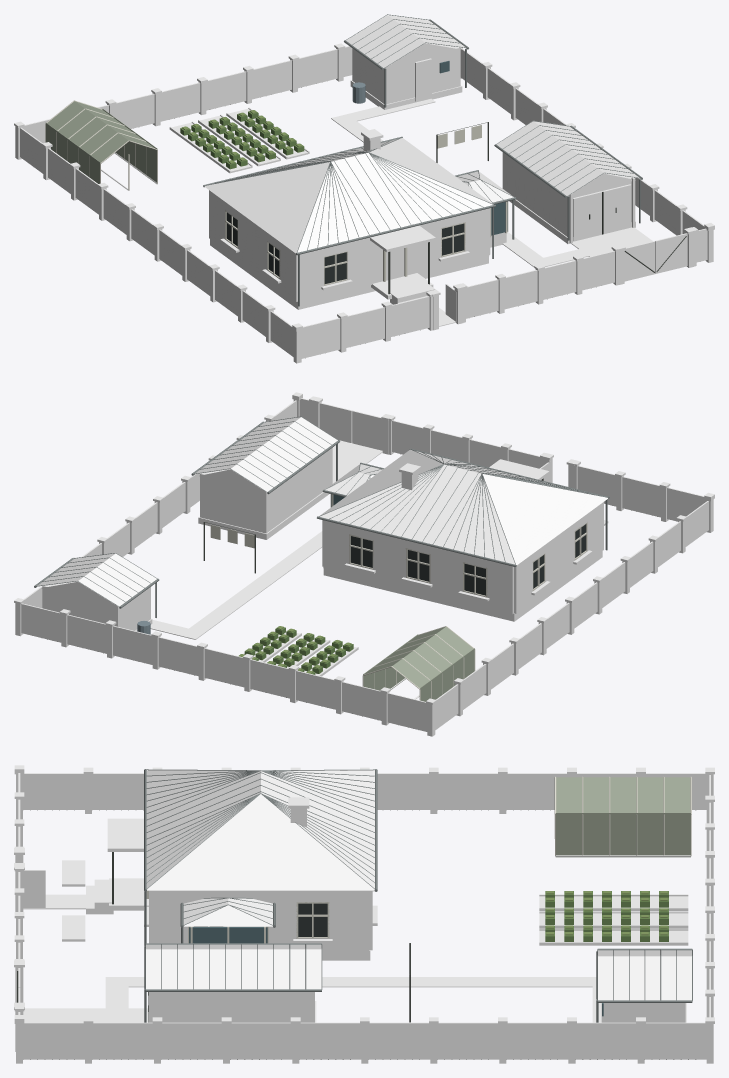
3 renders of one model, top to bottom at view 1: azimuth 30°, elevation 25°; view 2: azimuth 150°, elevation 25°; view 3: azimuth 270°, elevation 25°, orthographic. The views are drawn at different scales.
Visible parts, largest first — view 1: ParcelGeometry.014, SummerPlanting.012; view 2: ParcelGeometry.014, SummerPlanting.012; view 3: ParcelGeometry.014, SummerPlanting.012.
Part boxes in pixels (bbox=[...]): ParcelGeometry.014: bbox=[14, 14, 714, 363]; SummerPlanting.012: bbox=[180, 110, 481, 169]; ParcelGeometry.014: bbox=[14, 392, 714, 736]; SummerPlanting.012: bbox=[210, 525, 353, 674]; ParcelGeometry.014: bbox=[14, 765, 714, 1063]; SummerPlanting.012: bbox=[545, 891, 668, 941].
Bounding box in the file's own units: 22.13 × 5.06 × 25.84.
